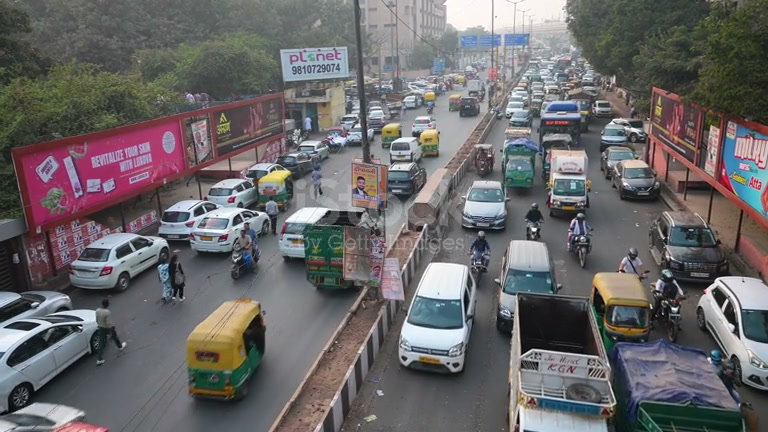bus: (539, 101, 583, 147), (502, 138, 540, 187)
car: (509, 289, 617, 430), (606, 338, 755, 431), (0, 312, 99, 415), (397, 261, 478, 374), (185, 297, 267, 403), (695, 275, 767, 394), (494, 240, 563, 333), (68, 231, 169, 292), (648, 210, 729, 282), (591, 271, 654, 345), (187, 207, 272, 254), (0, 402, 110, 431), (277, 206, 330, 260), (0, 289, 74, 327), (156, 198, 221, 241), (460, 179, 508, 231), (613, 159, 661, 201), (206, 177, 258, 209), (257, 167, 294, 205), (0, 290, 39, 326), (388, 162, 424, 197), (241, 162, 290, 187), (600, 146, 636, 180), (274, 152, 313, 180), (297, 140, 330, 162), (324, 128, 350, 151), (411, 115, 434, 138), (508, 109, 531, 128), (592, 100, 614, 117)
motorcycle: (651, 292, 687, 343), (230, 243, 260, 281), (469, 233, 492, 274), (568, 231, 592, 269), (469, 244, 491, 275)
pedestrian: (92, 298, 125, 363), (651, 269, 687, 320), (233, 222, 258, 263), (469, 230, 492, 272), (157, 249, 174, 304), (567, 210, 592, 247), (618, 246, 646, 277), (524, 201, 544, 240), (172, 254, 187, 300), (265, 195, 280, 234), (312, 166, 325, 197)
truck: (510, 290, 616, 431), (185, 298, 266, 403), (303, 213, 386, 292), (547, 149, 590, 217), (350, 158, 389, 211), (540, 101, 583, 145), (418, 128, 441, 157)
